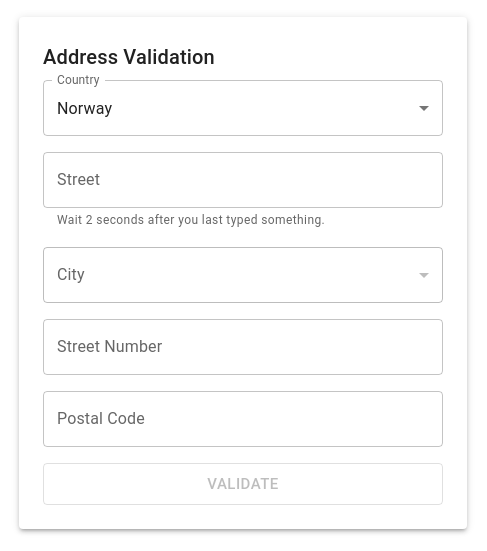
Address Validation › selecting "Sweden" updates the combobox text
This screenshot has width=487, height=551.
Click the dropdown labelled "Norway": {"x": 85, "y": 108} [57,98,112,118]
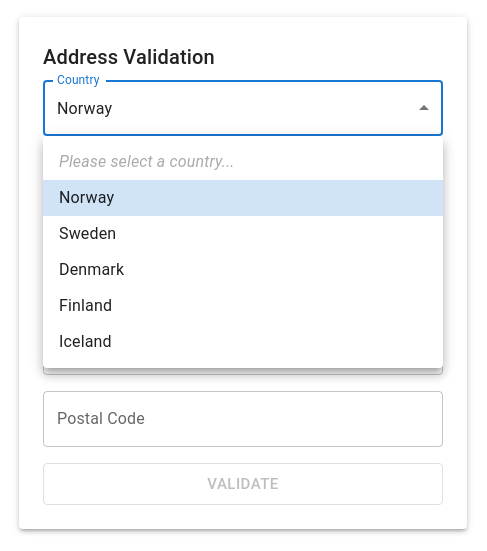
Click the option "Sweden": {"x": 88, "y": 234} [59,224,116,243]
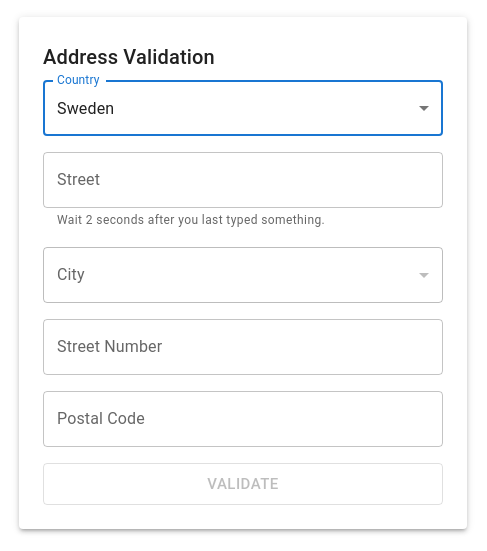
Result: the dropdown labelled "Sweden" is shown at [57,98,114,118]
